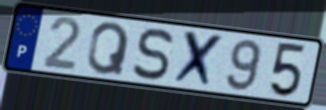2: (39, 15, 83, 71)
5: (266, 40, 310, 99)
9: (223, 37, 264, 93)
Q: (85, 21, 132, 78)
S: (130, 27, 176, 83)
X: (170, 28, 227, 91)
